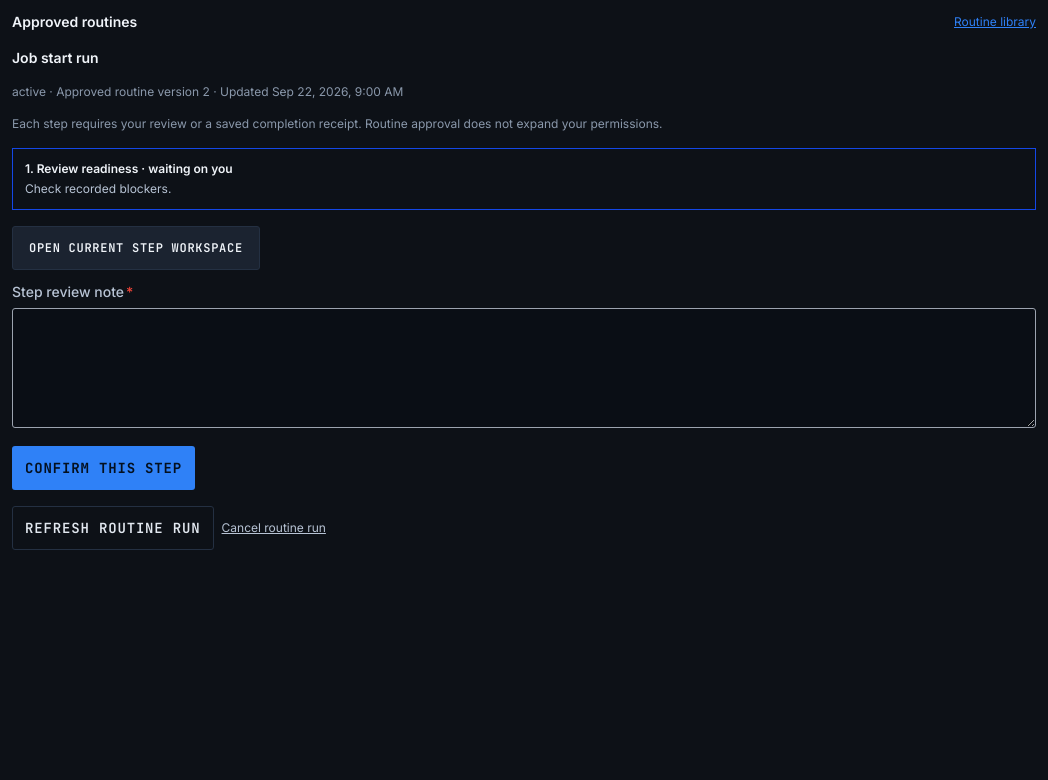
Scenario: cancels only the selected saved run and waits for its saved cancelled status
The width and height of the screenshot is (1048, 780).
Step 1. Click the button "Cancel routine run" → (274, 528), box [222,506,326,550]
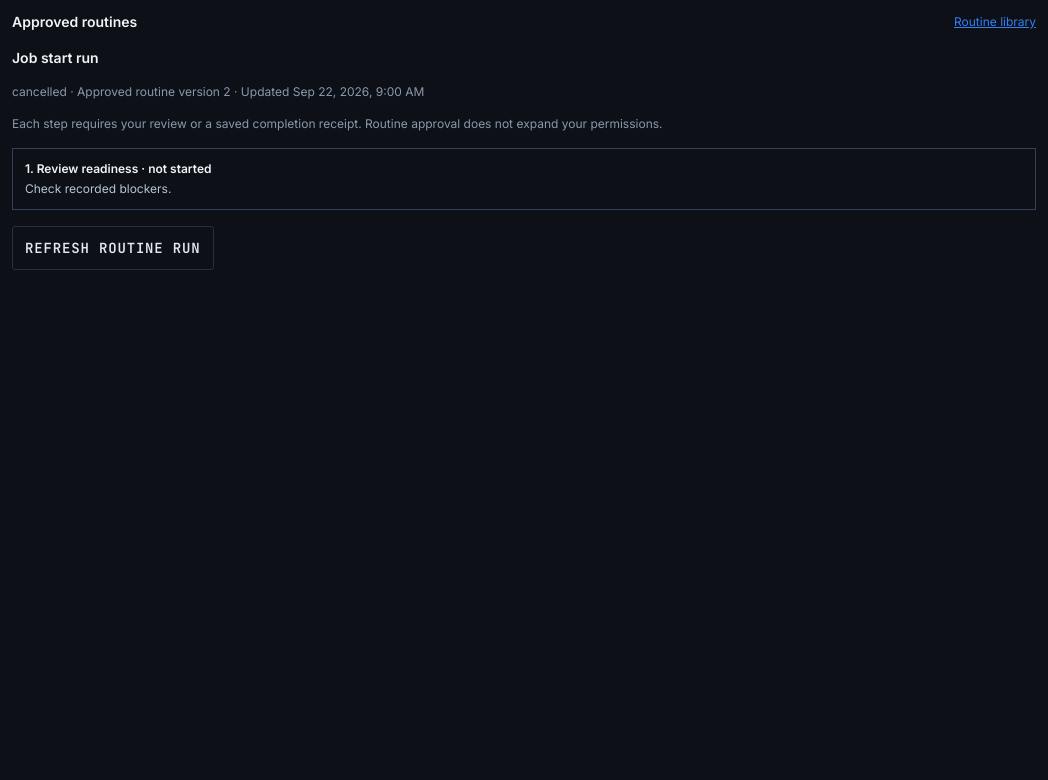
Check: the button "Confirm this step" is gone
